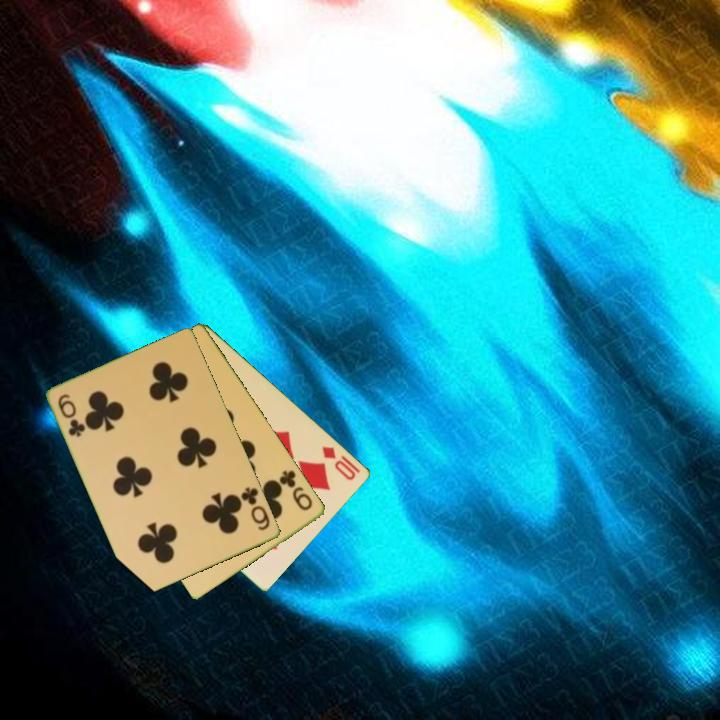10d: (319, 443, 359, 483)
6c: (238, 484, 273, 534), (55, 390, 88, 440)
9c: (276, 466, 316, 514)
